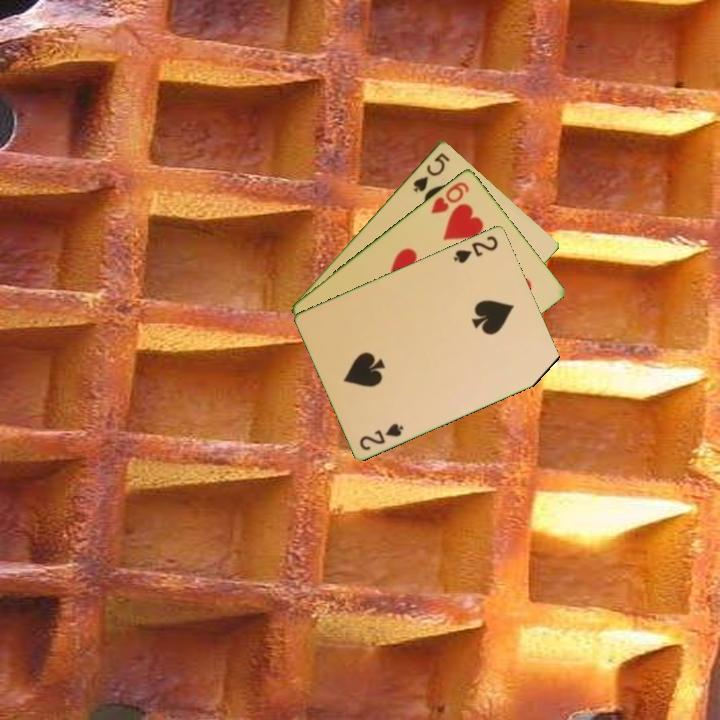2s: (450, 232, 501, 266), (356, 419, 407, 453)
5s: (409, 149, 453, 194)
6h: (427, 178, 472, 216)
